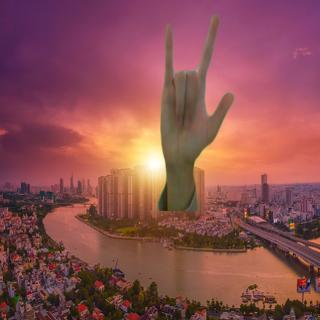ILY: (159, 14, 235, 172)
